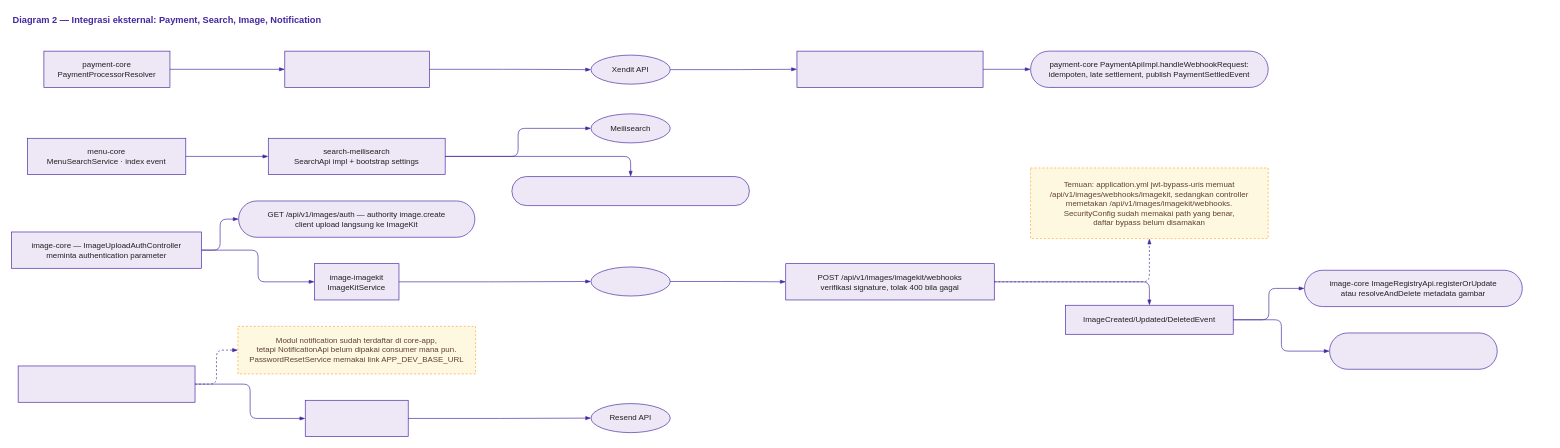
Some shapes in this 1560 by 448 pixel diagram are drawn without their labels. The shapes that lost their labels are listed below. From the top down, each one's centre as x and y in pixels, then its label:
At (356,68): "payment-xendit XenditService · XenditClient".
At (889,68): "POST /api/v1/payments/webhooks/xendit header X-Callback-Token wajib cocok".
At (630,191): "GET /api/v2/menus — katalog publik cached (permitAll)".
At (630,281): "ImageKit API".
At (1413,350): "menu-core MenuImageSyncListener sinkron relative path gambar menu".
At (106,383): "notification-core NotificationService · EmailTemplate".
At (356,418): "notification-resend ResendEmailSender".
